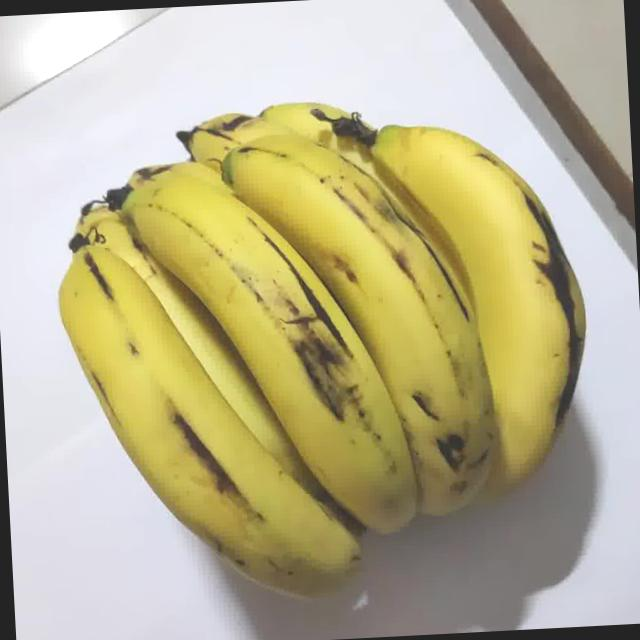banana_pacche: (14, 0, 609, 629)
